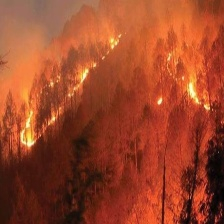fire: (8, 103, 64, 151), (78, 33, 128, 82), (185, 80, 214, 113), (161, 48, 180, 82), (155, 91, 166, 107)
smoke: (1, 2, 224, 77)
